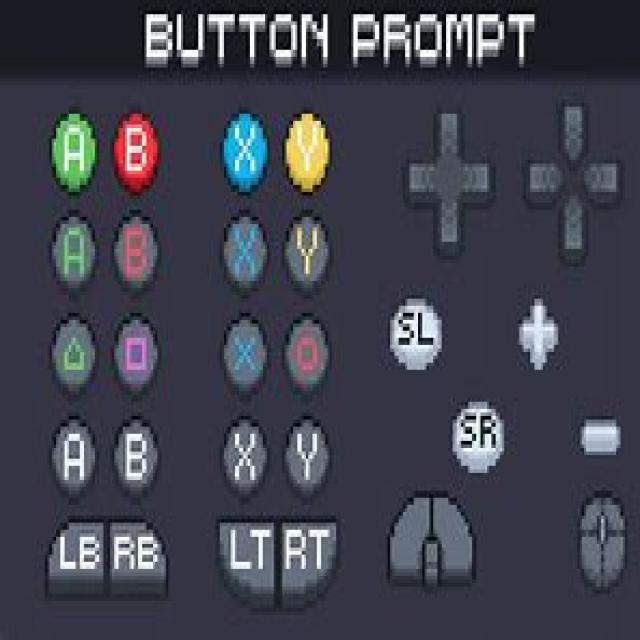button: (402, 106, 496, 259), (390, 492, 479, 596), (276, 518, 346, 612), (215, 515, 277, 613), (578, 488, 628, 595), (107, 516, 170, 599), (279, 205, 334, 298), (213, 313, 271, 400), (279, 408, 332, 502), (46, 207, 100, 298), (449, 398, 511, 477), (46, 516, 107, 596), (279, 310, 333, 400), (48, 309, 101, 400), (386, 293, 445, 374), (48, 411, 99, 504), (217, 412, 270, 500), (111, 414, 162, 504), (218, 106, 269, 196), (112, 108, 162, 198), (220, 209, 269, 298), (282, 108, 332, 195), (112, 209, 161, 296), (112, 312, 162, 396), (49, 109, 97, 194), (516, 294, 558, 373), (556, 191, 592, 271), (556, 99, 590, 170), (582, 154, 624, 209), (525, 157, 566, 206), (578, 417, 623, 458)
label: (140, 2, 546, 79)
